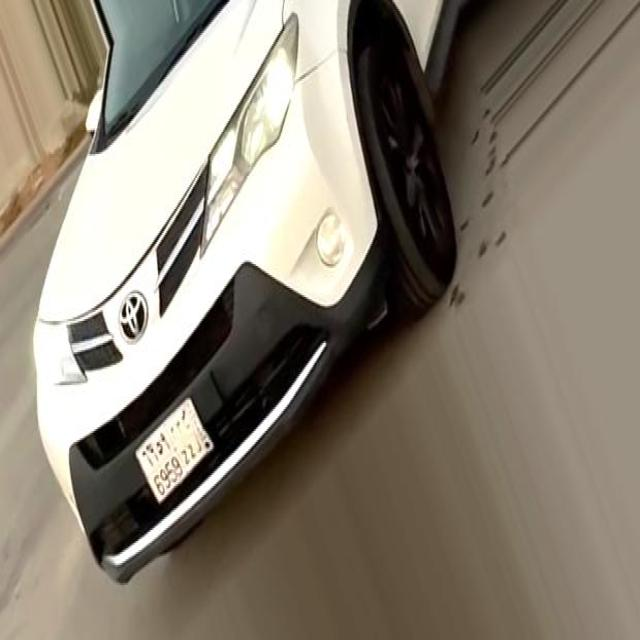Car-plate: (129, 379, 231, 522)
